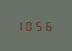five: (36, 20, 44, 31)
one: (18, 20, 26, 31)
six: (45, 20, 53, 31)
zero: (27, 20, 35, 31)
